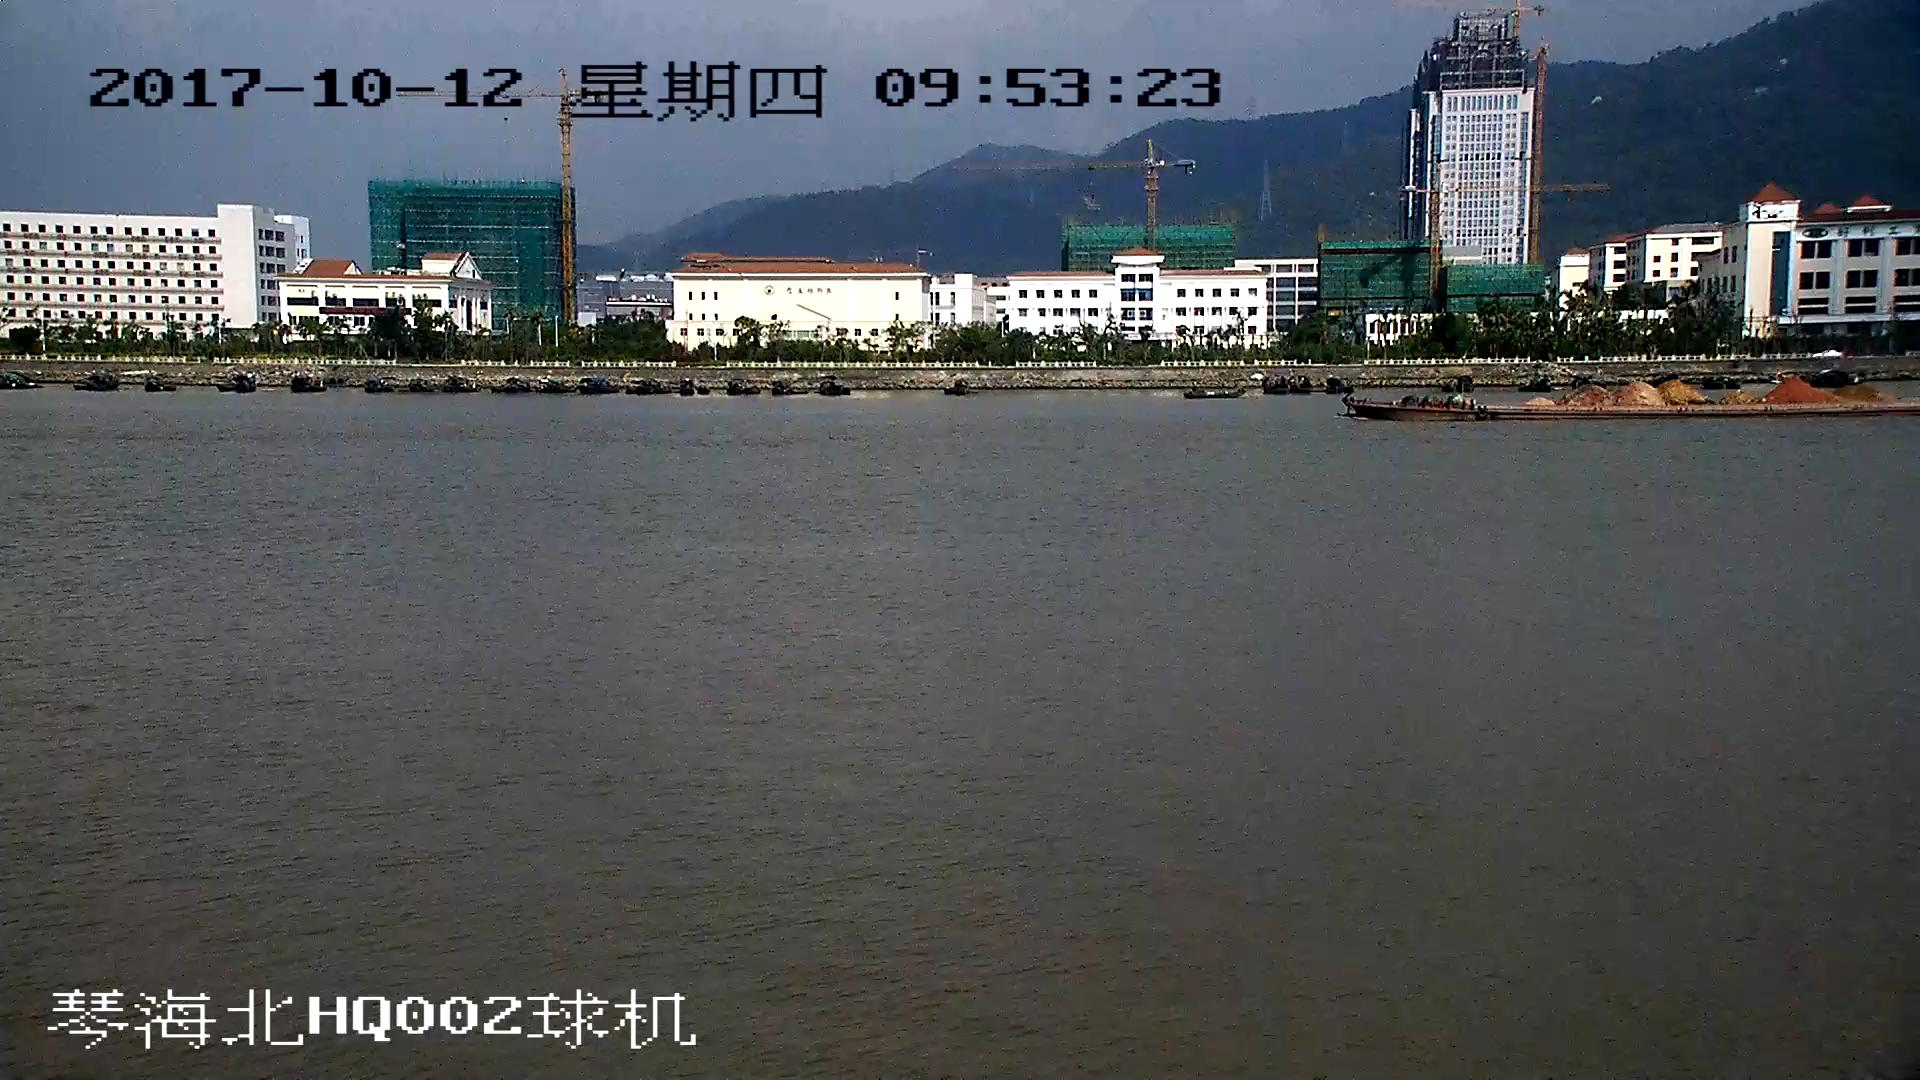ore carrier: (1343, 379, 1920, 423)
